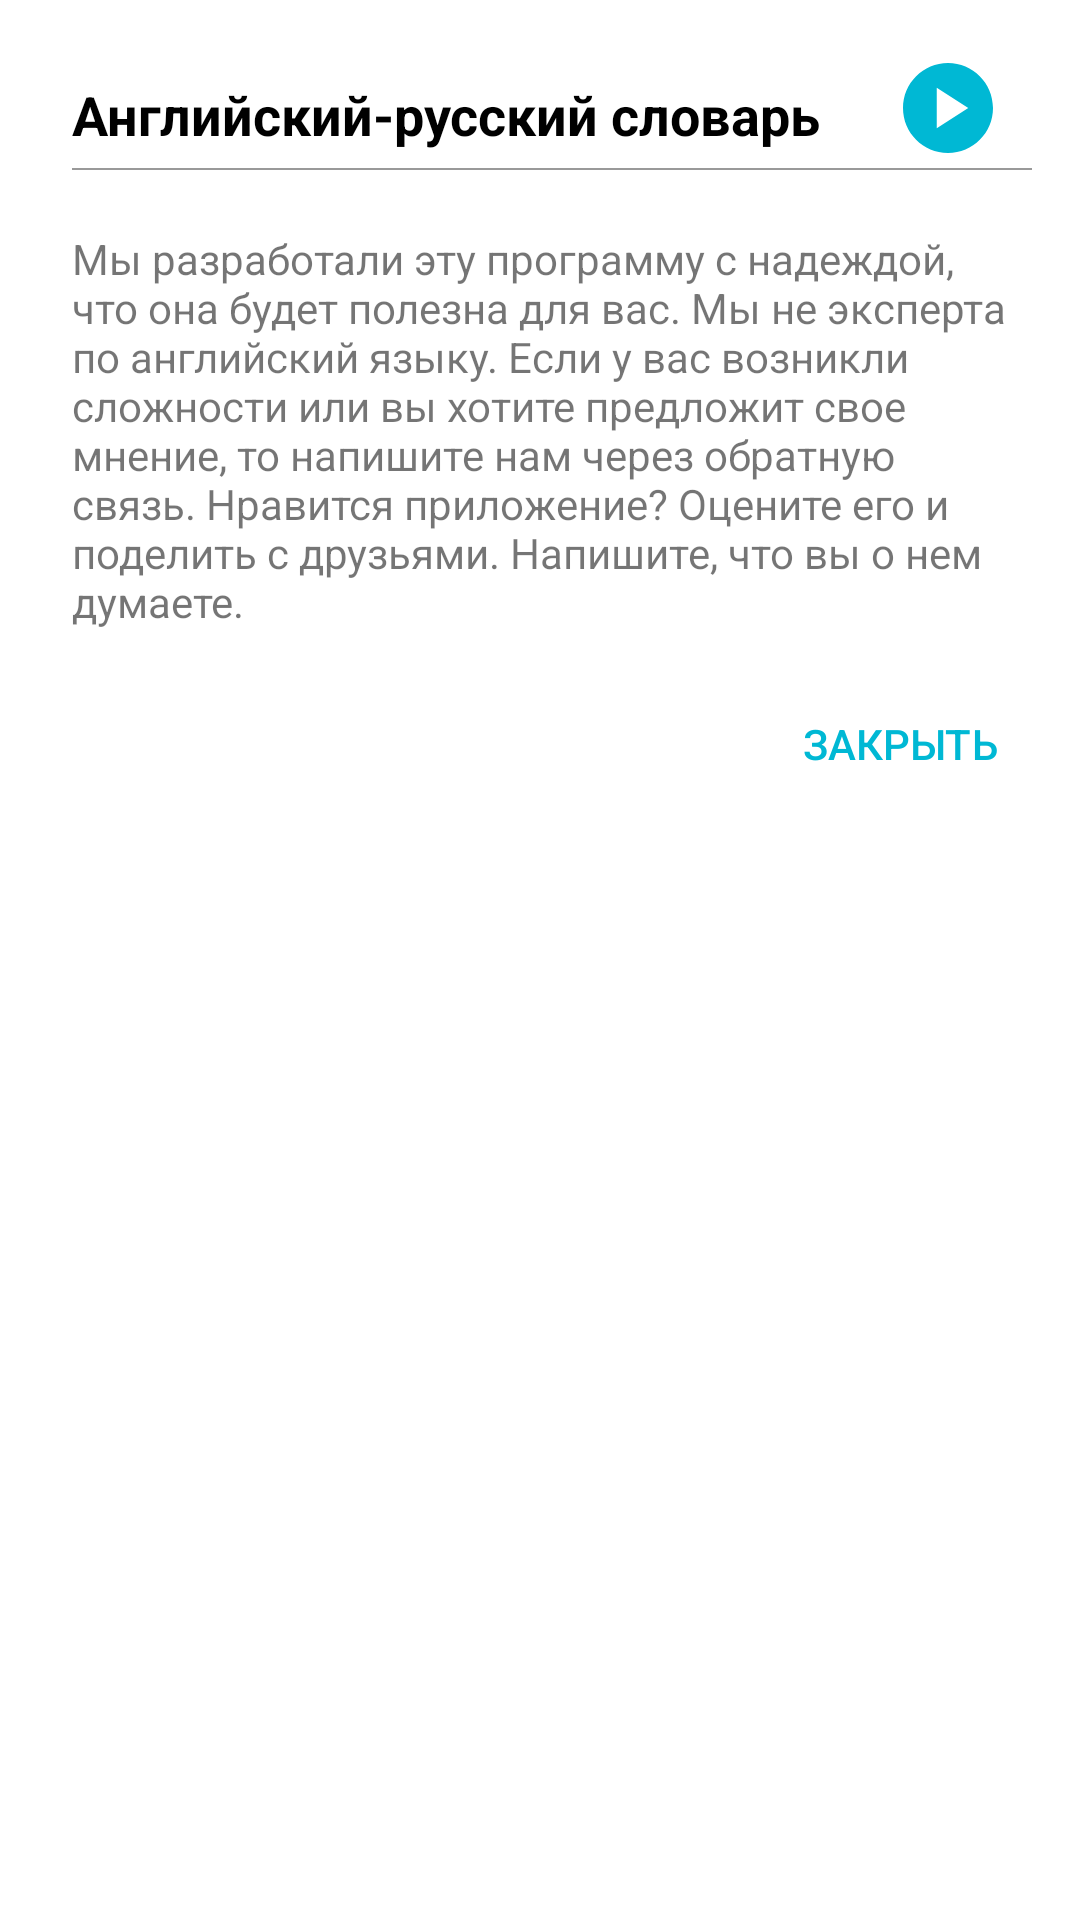

Point at icon controls on the screen. Image size 1080 x 1920, points as [x,y].
play circle: [948,108]
